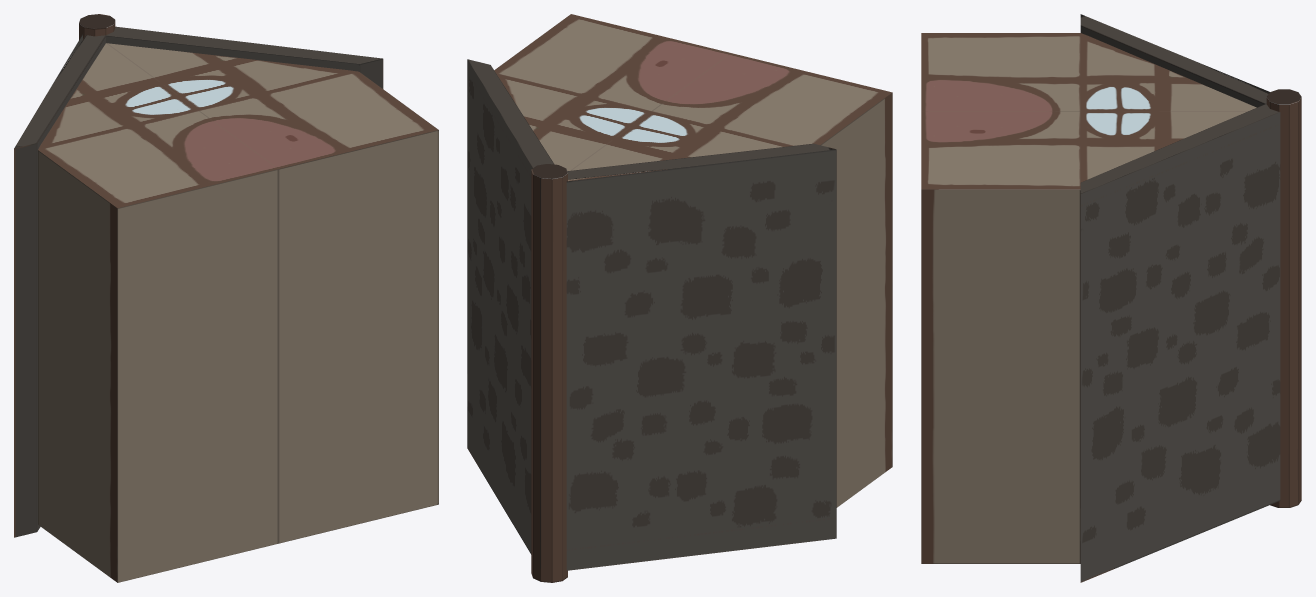
The model's file is Actually_House_1.fbx.
3 renders of one model, left to right at view 1: azimuth 30°, elevation 25°; view 2: azimuth 150°, elevation 25°; view 3: azimuth 270°, elevation 25°, orthographic.
Visible parts, largest first — view 1: Cube.005; view 2: Cube.005; view 3: Cube.005.
Part boxes in pixels (<box>): Cube.005: <box>14,14,438,582</box>; Cube.005: <box>467,14,892,582</box>; Cube.005: <box>921,14,1301,582</box>.
Bounding box in the file's own units: 2568 × 2685 × 2293.
